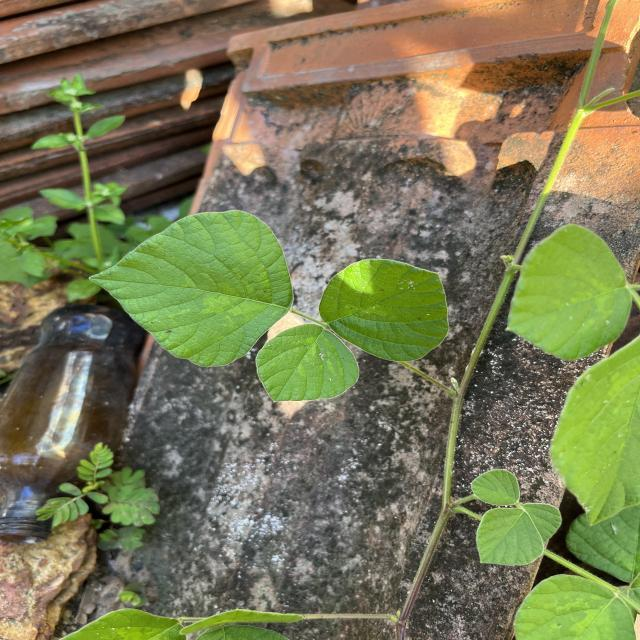Pseudarthria viscida: (86, 208, 452, 404)
